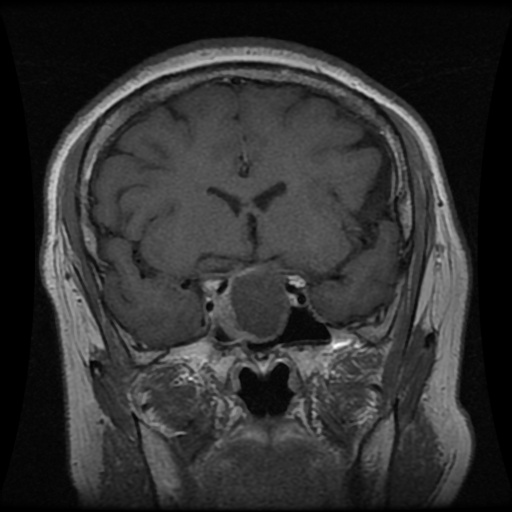pituitary: (202, 262, 292, 343)
